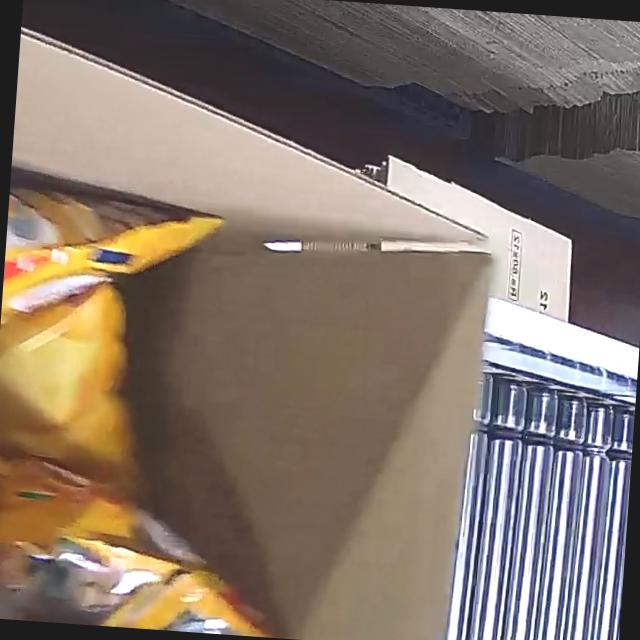cheese: (0, 12, 304, 636)
